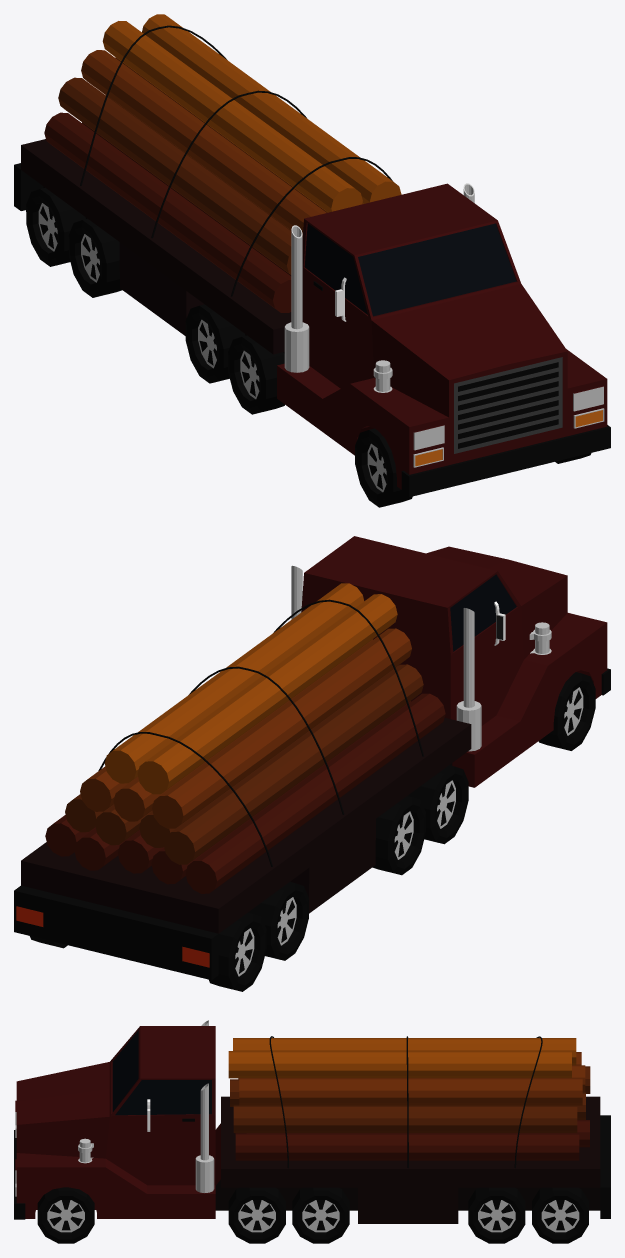
Rendered from FBX_Truck.fbx.
3 renders of one model, top to bottom at view 1: azimuth 30°, elevation 25°; view 2: azimuth 150°, elevation 25°; view 3: azimuth 270°, elevation 25°, orthographic. The views are drawn at different scales.
Visible parts, largest first — view 1: Body, Trunk_05, Trunk_14, Trunk_09, Trunk_12, Trunk_13, Tire_03, Tire_07, Tire_05, Tire_09, Tire_01; view 2: Body, Trunk_05, Trunk_09, Trunk_12, Trunk_14, Trunk_13, Tire_05, Tire_09, Tire_03, Tire_07, Tire_01, Trunk_11 (+9 smaller); view 3: Body, Trunk_06, Trunk_01, Trunk_10, Trunk_13, Trunk_14, Tire_08, Tire_04, Tire_06, Tire_10, Tire_02, Trunk_02.
Part boxes in pixels (<box>): Body: <box>14,139,610,497</box>; Trunk_05: <box>44,112,291,312</box>; Trunk_14: <box>102,21,362,212</box>; Trunk_09: <box>58,77,291,274</box>; Trunk_12: <box>81,50,326,236</box>; Trunk_13: <box>142,14,401,203</box>; Tire_03: <box>228,335,284,414</box>; Tire_07: <box>68,218,122,297</box>; Tire_05: <box>185,304,245,383</box>; Tire_09: <box>26,187,85,266</box>; Tire_01: <box>355,428,412,507</box>; Body: <box>14,536,610,980</box>; Trunk_05: <box>185,693,445,893</box>; Trunk_09: <box>163,664,423,864</box>; Trunk_12: <box>152,628,411,828</box>; Trunk_14: <box>137,594,397,794</box>; Trunk_13: <box>104,583,363,783</box>; Tire_05: <box>372,796,425,875</box>; Tire_09: <box>209,913,266,991</box>; Tire_03: <box>408,765,468,844</box>; Tire_07: <box>249,882,308,960</box>; Tire_01: <box>538,672,595,750</box>; Trunk_11: <box>113,639,372,821</box>; Body: <box>14,1020,610,1223</box>; Trunk_06: <box>233,1105,577,1132</box>; Trunk_01: <box>235,1133,579,1160</box>; Trunk_10: <box>239,1078,582,1105</box>; Trunk_13: <box>228,1051,571,1078</box>; Trunk_14: <box>233,1038,576,1065</box>; Tire_08: <box>468,1187,525,1243</box>; Tire_04: <box>228,1187,285,1243</box>; Tire_06: <box>292,1187,349,1243</box>; Tire_10: <box>532,1187,588,1243</box>; Tire_02: <box>37,1187,94,1243</box>; Trunk_02: <box>247,1120,589,1147</box>.
Bounding box in the file's own units: 3.25 × 3.33 × 10.86.
